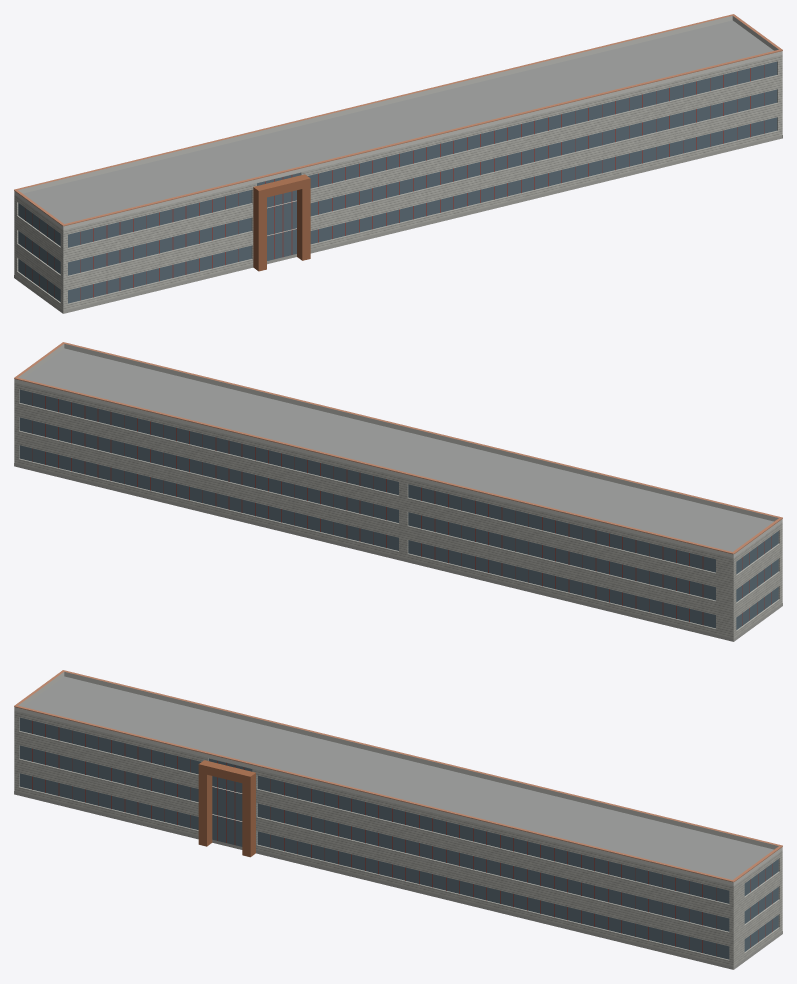
3 views of the same model, one above another, from view 1: azimuth 30°, elevation 25°; view 2: azimuth 150°, elevation 25°; view 3: azimuth 330°, elevation 25° (orthographic).
Parts seen in each view (by area): view 1: lecture1__wall, lecture1__glass, lecture1__roof, lecture1__parapet, lecture1__trim, lecture1__accent, lecture1__base, lecture1__frame; view 2: lecture1__wall, lecture1__glass, lecture1__roof, lecture1__parapet, lecture1__trim, lecture1__base, lecture1__frame; view 3: lecture1__wall, lecture1__glass, lecture1__roof, lecture1__parapet, lecture1__trim, lecture1__accent, lecture1__base, lecture1__frame.
Boxes of the visible parts, x1,y1,x2,y2 form: lecture1__wall: [14, 54, 782, 313]; lecture1__glass: [18, 61, 777, 303]; lecture1__roof: [23, 20, 773, 223]; lecture1__parapet: [14, 15, 782, 229]; lecture1__trim: [14, 14, 782, 226]; lecture1__accent: [253, 174, 310, 271]; lecture1__base: [14, 135, 782, 313]; lecture1__frame: [25, 65, 764, 300]; lecture1__wall: [14, 382, 782, 641]; lecture1__glass: [19, 389, 778, 629]; lecture1__roof: [23, 348, 773, 551]; lecture1__parapet: [14, 344, 782, 557]; lecture1__trim: [14, 342, 782, 554]; lecture1__base: [14, 463, 782, 641]; lecture1__frame: [32, 393, 771, 625]; lecture1__wall: [14, 710, 782, 969]; lecture1__glass: [19, 717, 778, 959]; lecture1__roof: [23, 676, 773, 879]; lecture1__parapet: [14, 671, 782, 885]; lecture1__trim: [14, 670, 782, 882]; lecture1__accent: [198, 760, 255, 857]; lecture1__base: [14, 791, 782, 969]; lecture1__frame: [32, 720, 772, 956].
Size of the model in its own units: 97.32 by 11.4 by 12.81.
8 materials, 1 textured.
